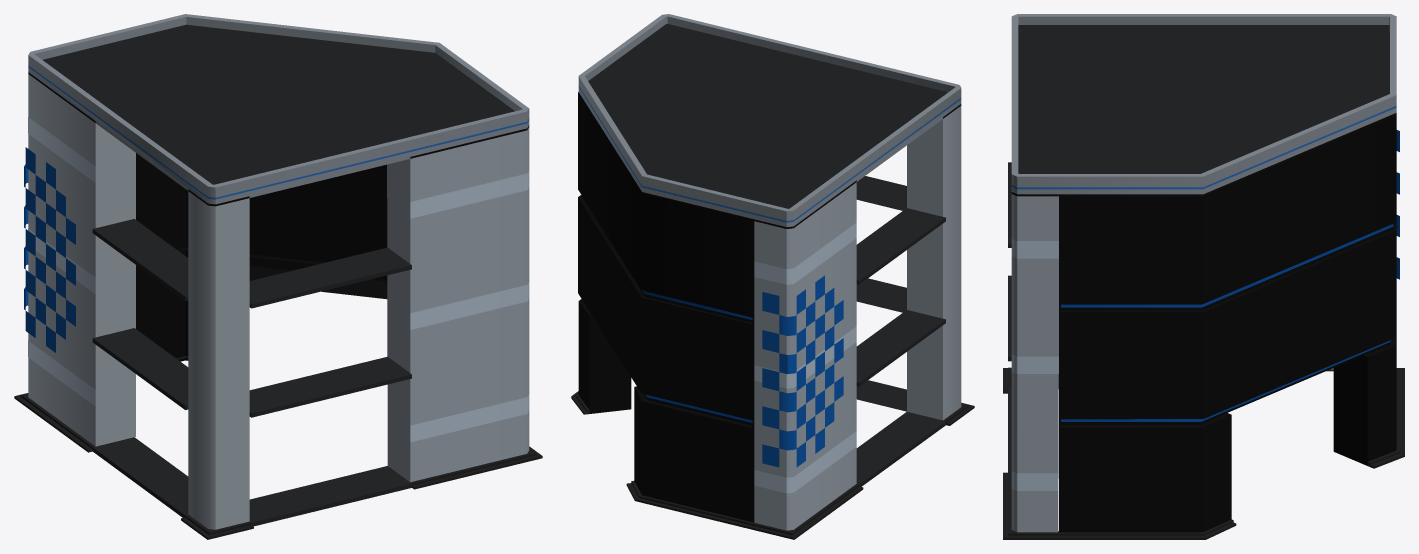
Rendered from Building_Basic_001_L1.fbx.
3 renders of one model, left to right at view 1: azimuth 30°, elevation 25°; view 2: azimuth 150°, elevation 25°; view 3: azimuth 270°, elevation 25°, orthographic. The views are drawn at different scales.
Visible parts, largest first — view 1: Building_Basic_001_L1; view 2: Building_Basic_001_L1; view 3: Building_Basic_001_L1.
Part boxes in pixels (x1,y1,x2,y2): Building_Basic_001_L1: (14, 14, 542, 539); Building_Basic_001_L1: (571, 14, 974, 539); Building_Basic_001_L1: (1003, 14, 1404, 539).
Size of the model in its own units: 16.7 by 16.5 by 16.7.
